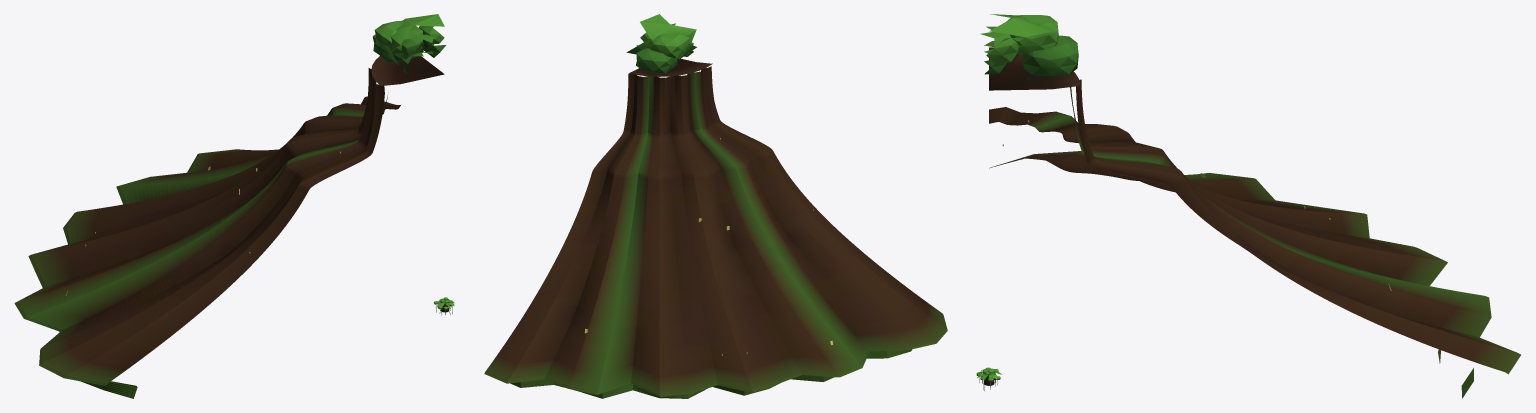
Rendered from swamp-s4-jZG38Jia.glb.
3 views of the same model, side by side, from view 1: azimuth 30°, elevation 25°; view 2: azimuth 150°, elevation 25°; view 3: azimuth 270°, elevation 25° (orthographic). The views are drawn at different scales.
Visible parts, largest first — view 1: sc_landmark_1; view 2: sc_landmark_1; view 3: sc_landmark_1.
Part boxes in pixels (x1=…): sc_landmark_1: x1=14, y1=14, x2=445, y2=398; sc_landmark_1: x1=484, y1=14, x2=947, y2=398; sc_landmark_1: x1=980, y1=14, x2=1520, y2=398.
Size of the model in its own units: 419 by 310 by 417.
